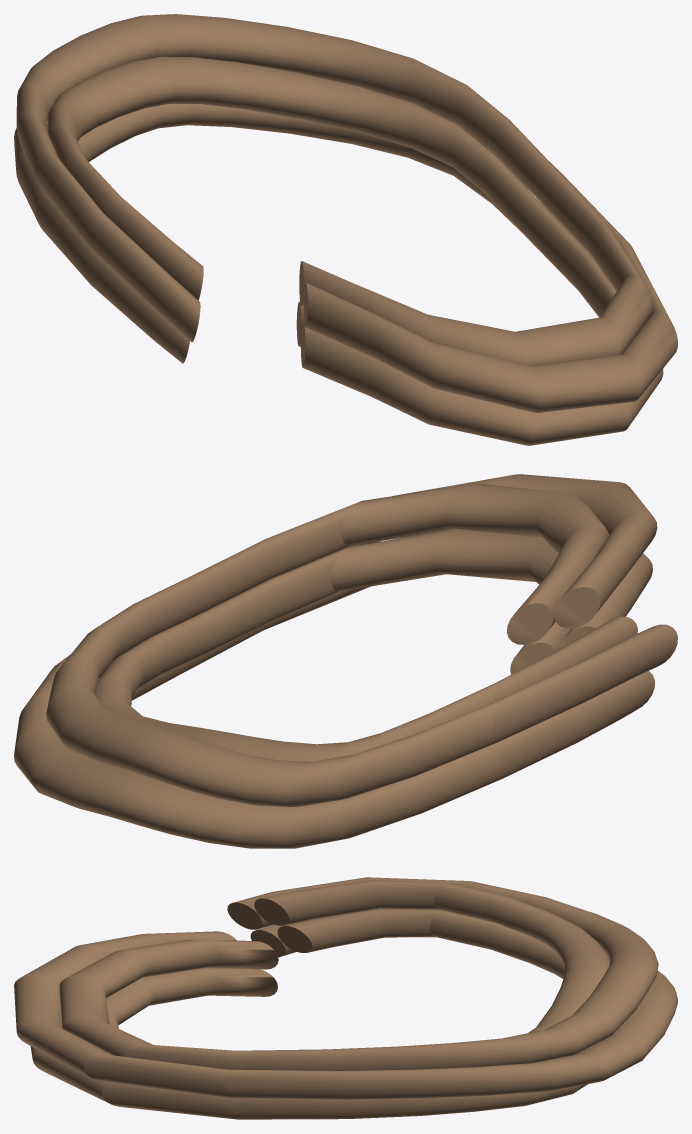
The model's file is Rope1.fbx.
3 renders of one model, top to bottom at view 1: azimuth 30°, elevation 25°; view 2: azimuth 150°, elevation 25°; view 3: azimuth 270°, elevation 25°, orthographic. The views are drawn at different scales.
Parts seen in each view (by area): view 1: pCylinder14; view 2: pCylinder14; view 3: pCylinder14.
Boxes of the visible parts, x1,y1,x2,y2 form: pCylinder14: [14, 14, 677, 445]; pCylinder14: [14, 474, 677, 848]; pCylinder14: [14, 877, 677, 1119].
Bounding box in the file's own units: 0.7363 × 0.2176 × 1.26.
